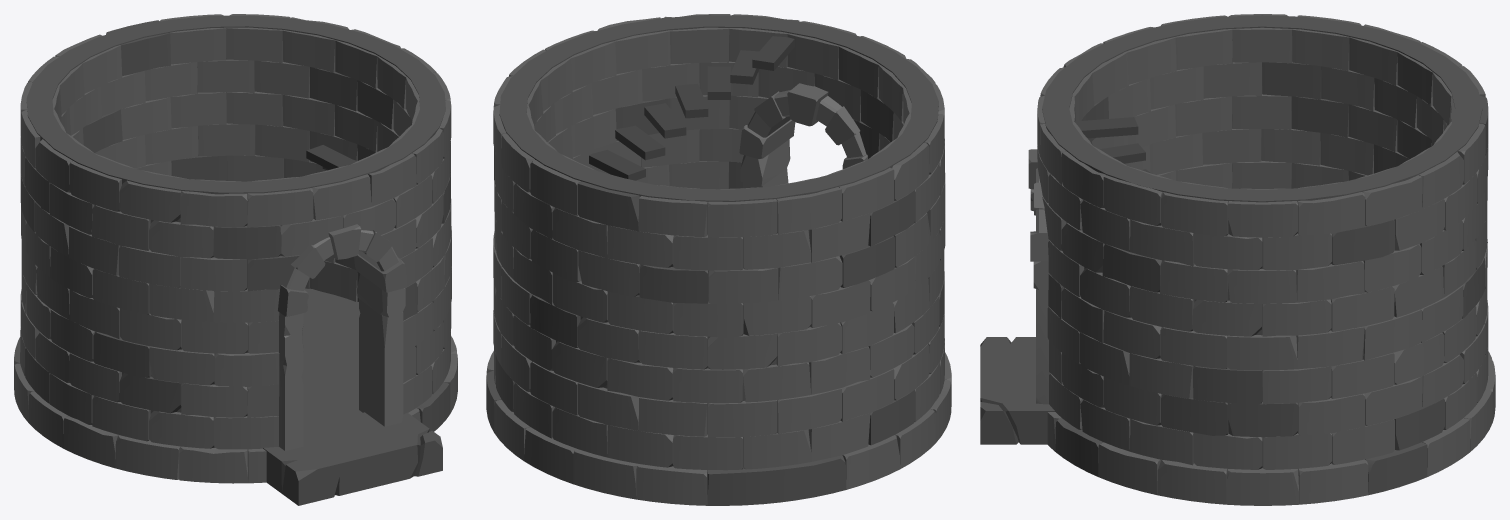
File: Tower_01.fbx
3 renders of one model, left to right at view 1: azimuth 30°, elevation 25°; view 2: azimuth 150°, elevation 25°; view 3: azimuth 270°, elevation 25°, orthographic. The views are drawn at different scales.
Visible parts, largest first — view 1: Tower_01_LOD0; view 2: Tower_01_LOD0; view 3: Tower_01_LOD0.
Boxes of the visible parts, box(x1,y1,x2,y2) form: Tower_01_LOD0: box(14, 14, 457, 505); Tower_01_LOD0: box(486, 14, 951, 505); Tower_01_LOD0: box(980, 14, 1495, 505).
Size of what is drawn, in the model's own units: 4.22 by 3 by 4.68.
